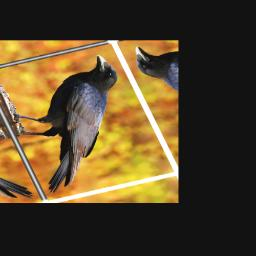Crow: (0, 52, 166, 194)
